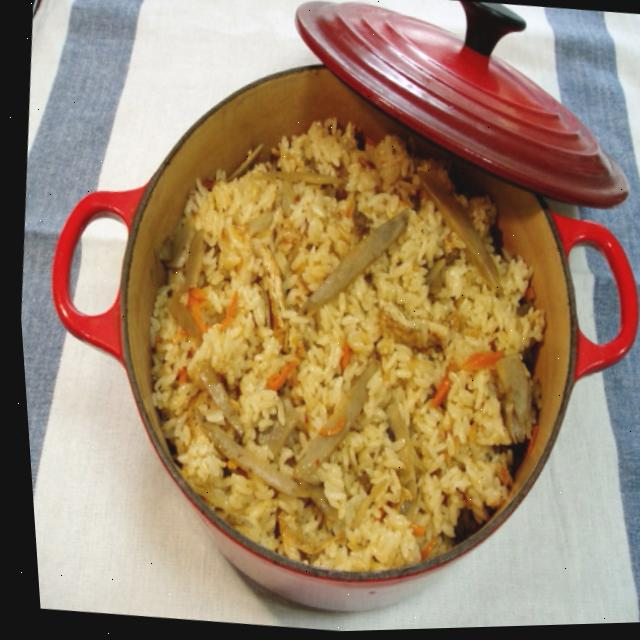米饭主食: (73, 47, 640, 638)
